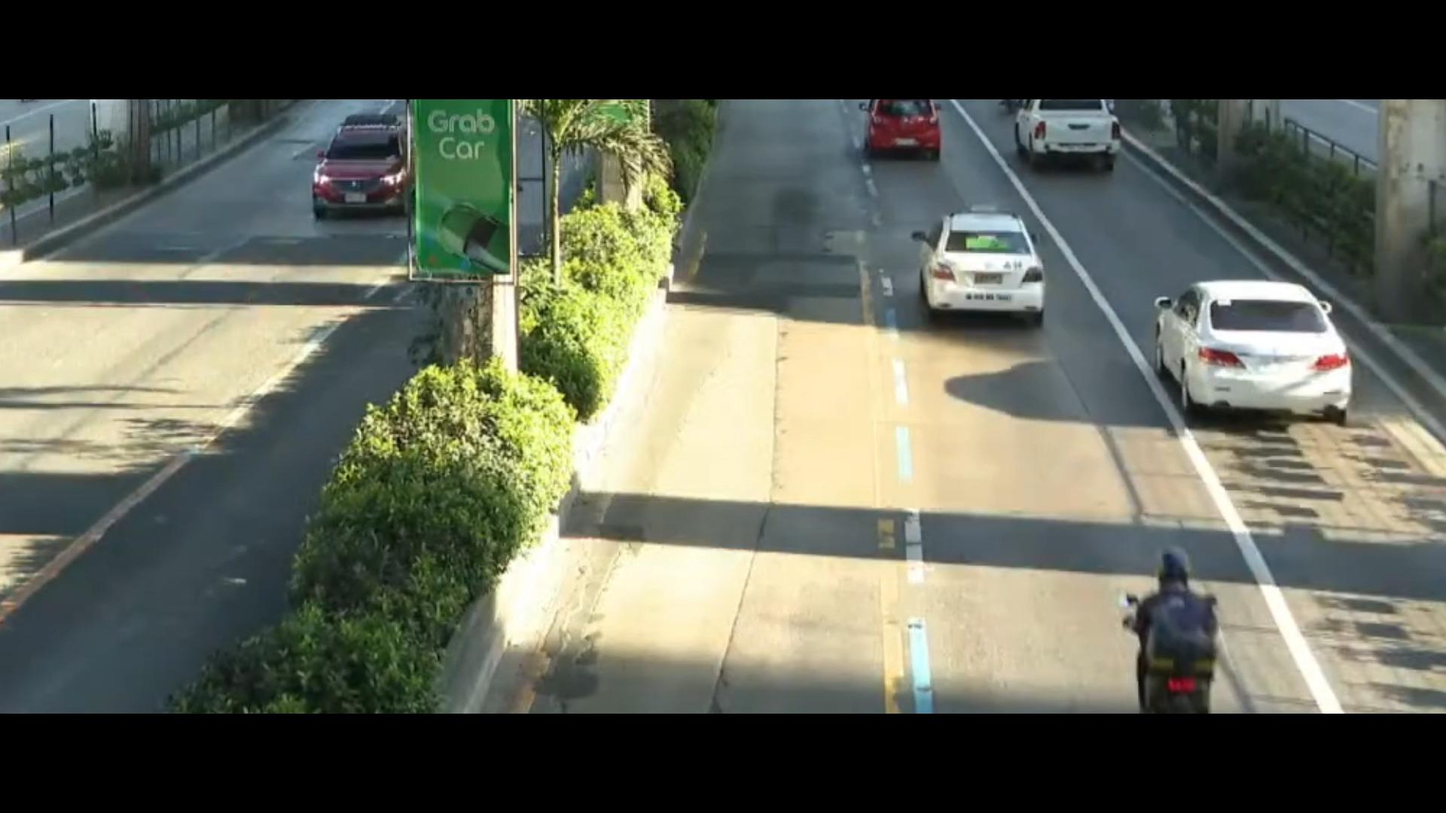Motorcycle: (1042, 518, 1259, 714)
Pickup: (1013, 102, 1140, 172)
SUV: (304, 96, 406, 230)
Sedan: (1149, 264, 1403, 473), (915, 170, 1060, 336), (850, 104, 960, 179)
